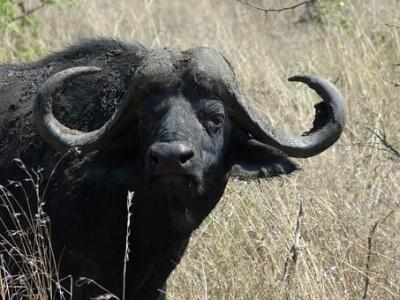buffalo: (0, 38, 348, 300)
